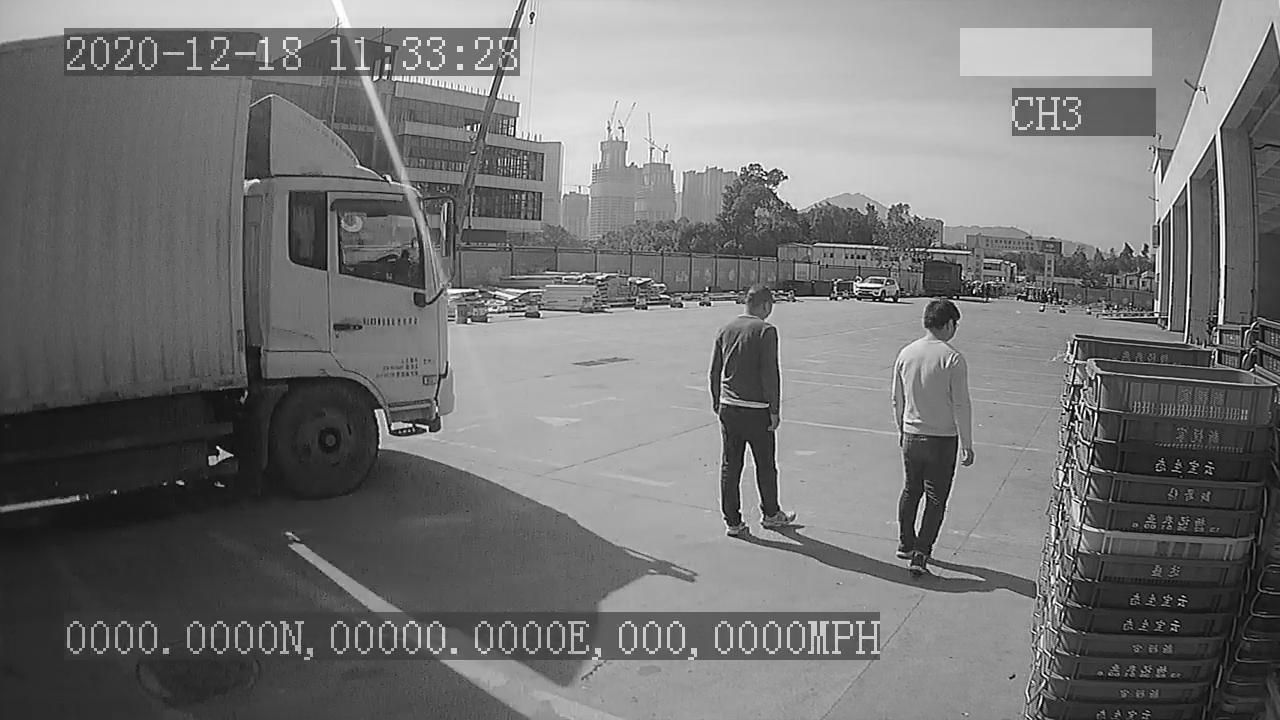person: (882, 300, 980, 577), (702, 286, 799, 540)
